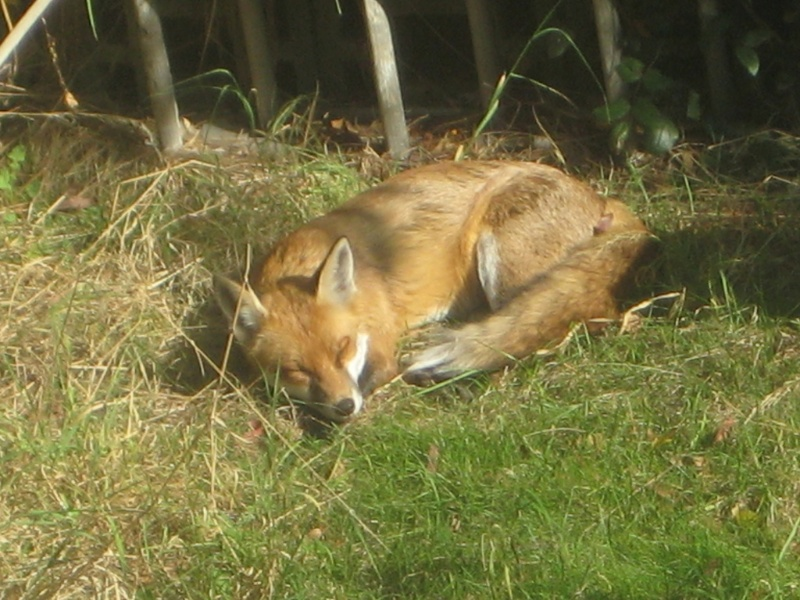fox: (212, 153, 650, 430)
